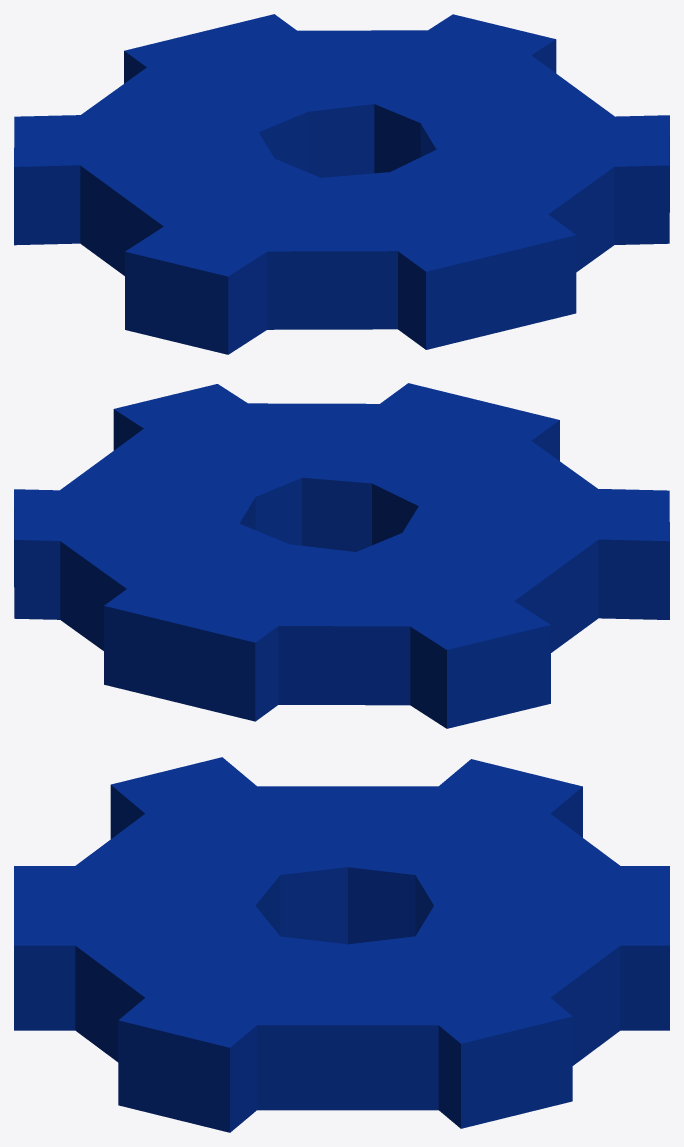
Rendered from GIMM370Gears Blue.fbx.
The picture shows the model from 3 angles, top to bottom: view 1: azimuth 30°, elevation 25°; view 2: azimuth 150°, elevation 25°; view 3: azimuth 270°, elevation 25°; orthographic projection. The views are drawn at different scales.
Parts seen in each view (by area): view 1: Cube.002; view 2: Cube.002; view 3: Cube.002.
Boxes of the visible parts, box(x1,y1,x2,y2) form: Cube.002: box(14, 14, 669, 354); Cube.002: box(14, 383, 669, 728); Cube.002: box(14, 757, 669, 1132).
Bounding box in the file's own units: 316 × 43.07 × 301.
